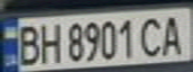0: (100, 17, 121, 61)
1: (115, 16, 139, 60)
8: (63, 18, 84, 62)
9: (81, 18, 103, 62)
A: (157, 11, 190, 56)
B: (12, 21, 42, 65)
C: (136, 14, 166, 57)
H: (36, 19, 63, 64)
